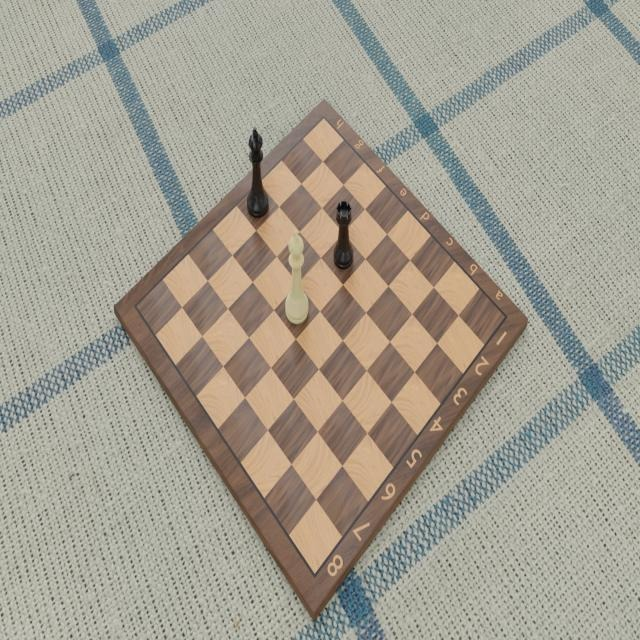black-king: (245, 127, 271, 221)
black-rook: (331, 199, 354, 269)
white-king: (283, 232, 311, 328)
